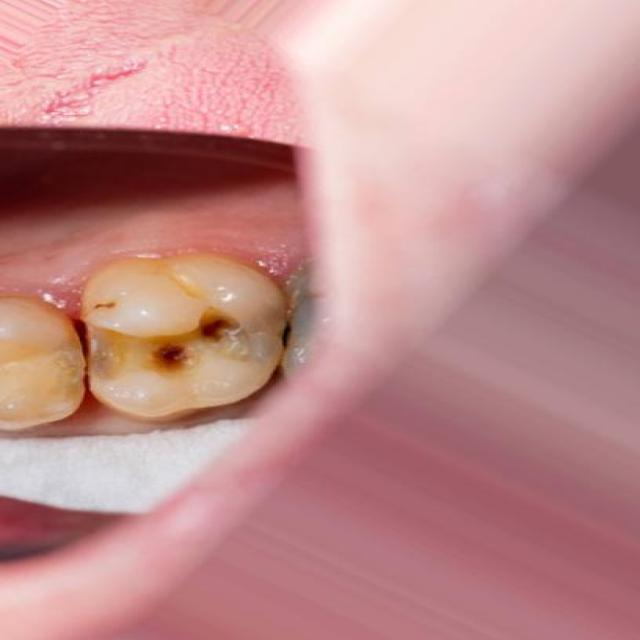caries: (76, 278, 272, 401)
